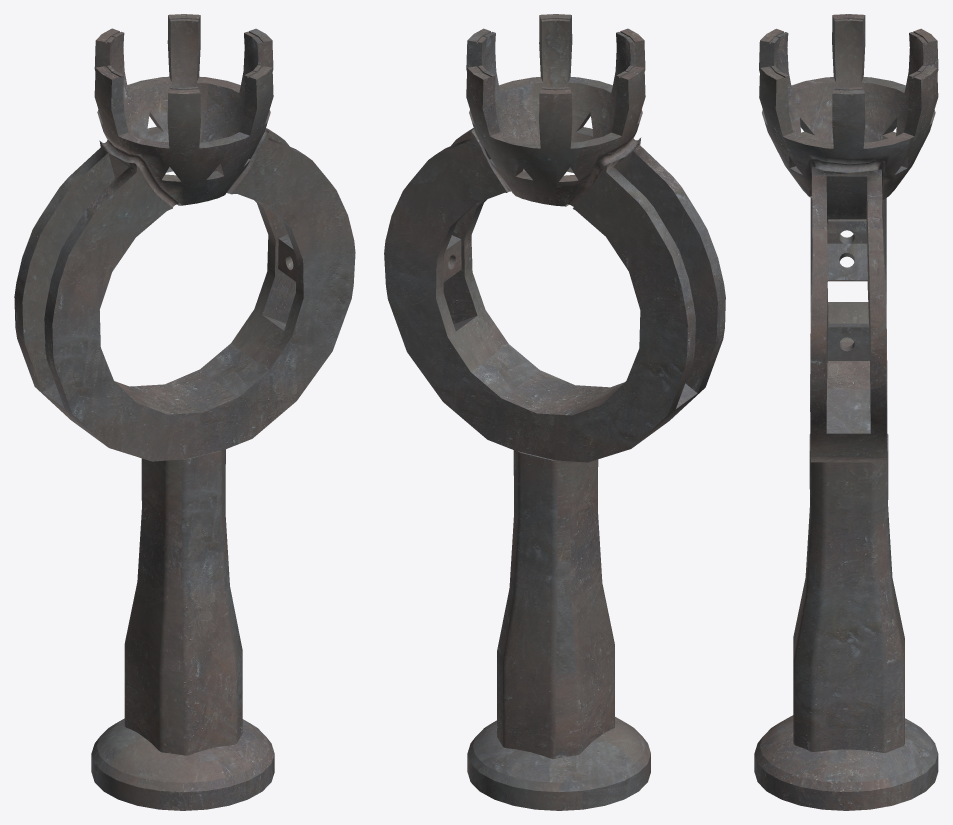
3 views of the same model, side by side, from view 1: azimuth 30°, elevation 25°; view 2: azimuth 150°, elevation 25°; view 3: azimuth 270°, elevation 25° (orthographic).
Parts seen in each view (by area): view 1: 307_PaoSuan_JinShuMo; view 2: 307_PaoSuan_JinShuMo; view 3: 307_PaoSuan_JinShuMo.
Part boxes in pixels (box(x1,y1,x2,y2)): 307_PaoSuan_JinShuMo: box(14, 14, 355, 810); 307_PaoSuan_JinShuMo: box(384, 14, 725, 810); 307_PaoSuan_JinShuMo: box(754, 14, 938, 810).
Bounding box in the file's own units: 2.21 × 4.98 × 1.16.
1 material, 1 textured.
